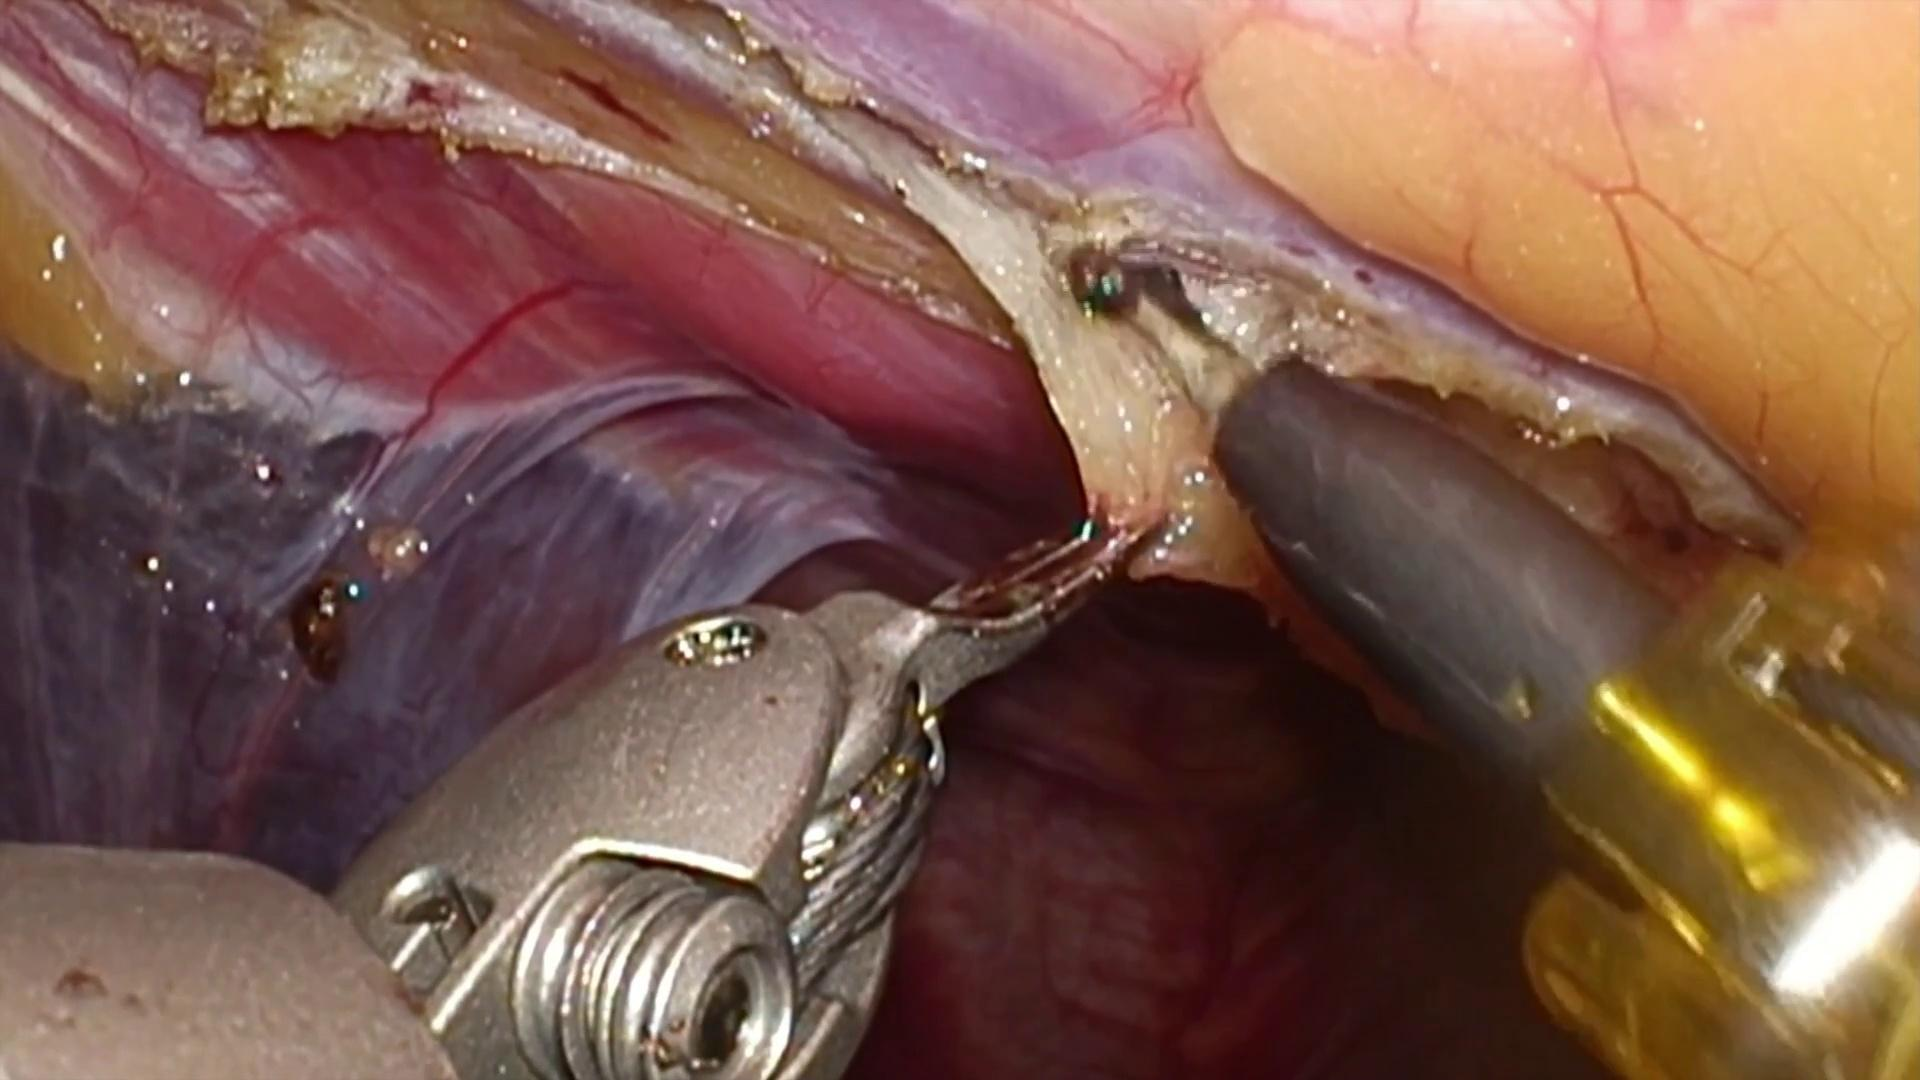Cautery_Spatula: (1064, 247, 1669, 802)
Debakey: (808, 496, 1167, 748)
